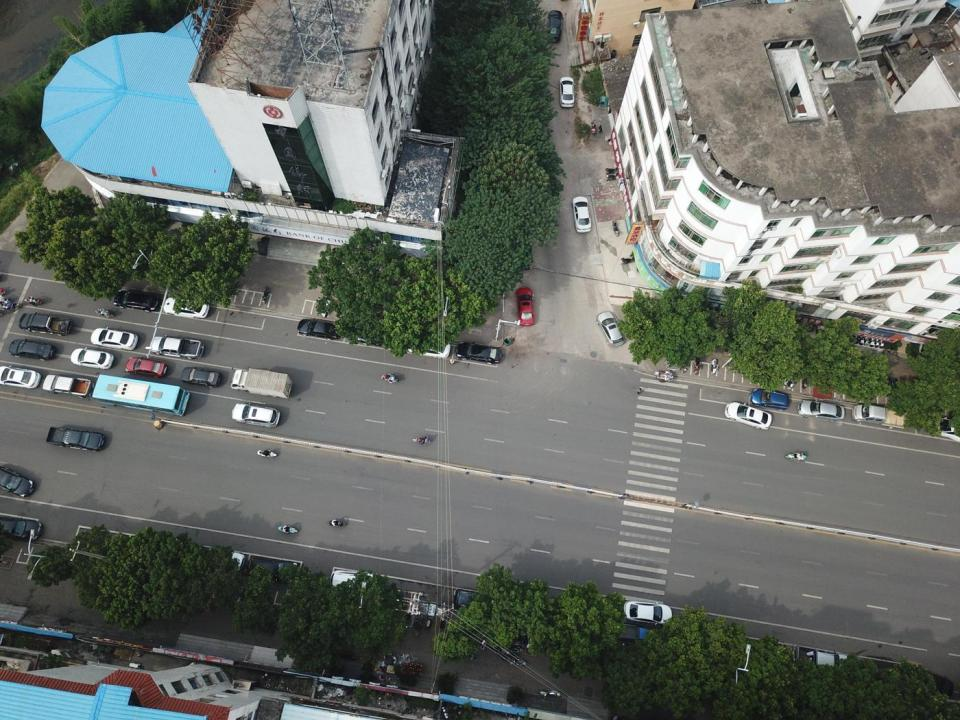bus: (92, 374, 190, 417)
car: (244, 556, 300, 582), (724, 401, 772, 430), (193, 546, 244, 572), (453, 588, 505, 612), (329, 570, 380, 594), (624, 600, 672, 623), (8, 338, 56, 361), (90, 327, 138, 350), (297, 317, 343, 341), (354, 326, 401, 349), (798, 398, 844, 421), (0, 465, 34, 496), (456, 341, 501, 364), (0, 517, 43, 541), (596, 311, 624, 347), (114, 290, 159, 312), (181, 366, 222, 389), (126, 355, 168, 377), (162, 298, 210, 317), (407, 337, 450, 358), (0, 365, 40, 387), (750, 389, 789, 411), (71, 348, 113, 368), (571, 196, 591, 234), (516, 286, 535, 326), (930, 415, 960, 439), (546, 9, 564, 43), (559, 77, 576, 108)
truck: (230, 368, 294, 399), (45, 425, 104, 451), (852, 403, 908, 430), (794, 645, 848, 671), (42, 374, 92, 399), (152, 335, 204, 359), (18, 312, 72, 335)
van: (664, 340, 681, 370)
